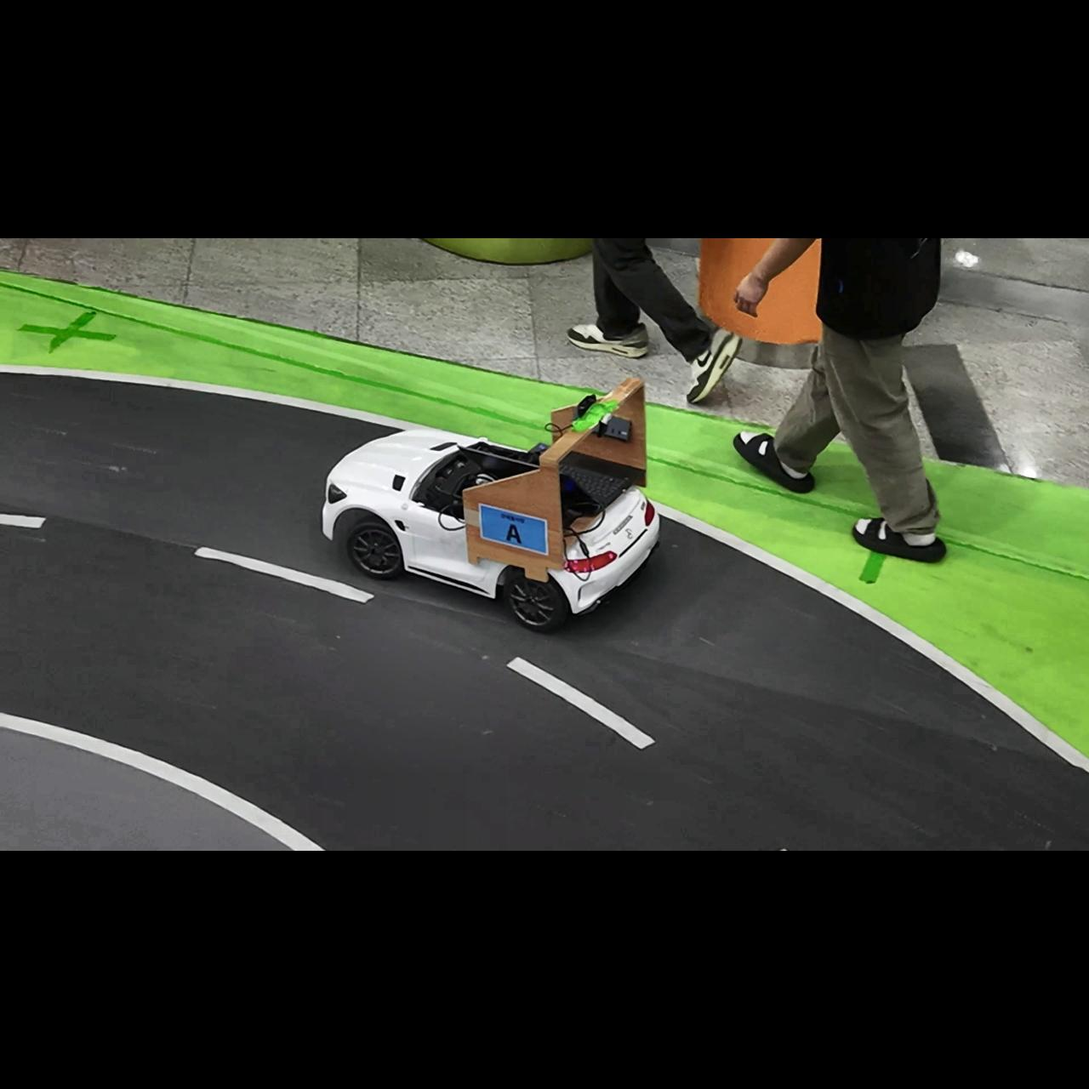broken_line: (507, 656, 656, 749), (193, 547, 374, 603), (0, 514, 46, 528)
